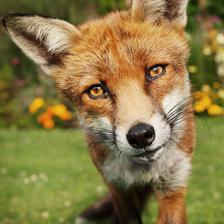fox: (2, 0, 197, 224)
